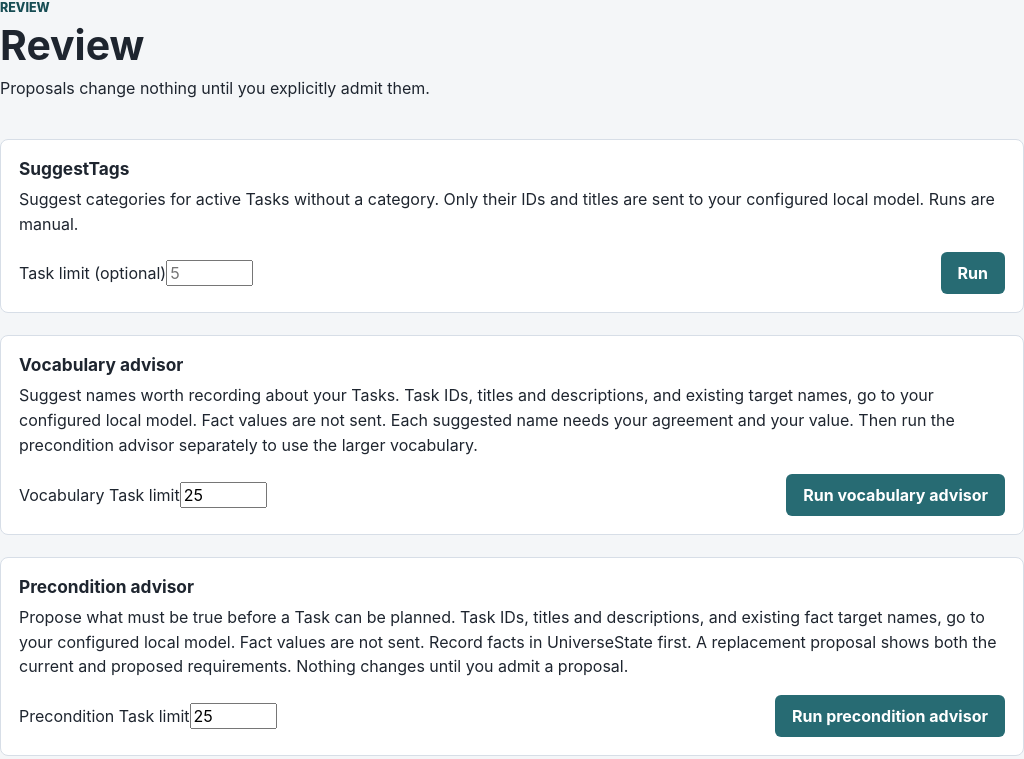
Scenario: a newer selection with no skipped Tasks clears the old snapshot
This screenshot has width=1024, height=759.
Expected: the button "Run precondition advisor" is enabled, left=775, top=695, right=1005, bottom=737
Click the button "Run vocabulary advisor" at (896, 495), box left=786, top=474, right=1005, bottom=516
(page scrolled)
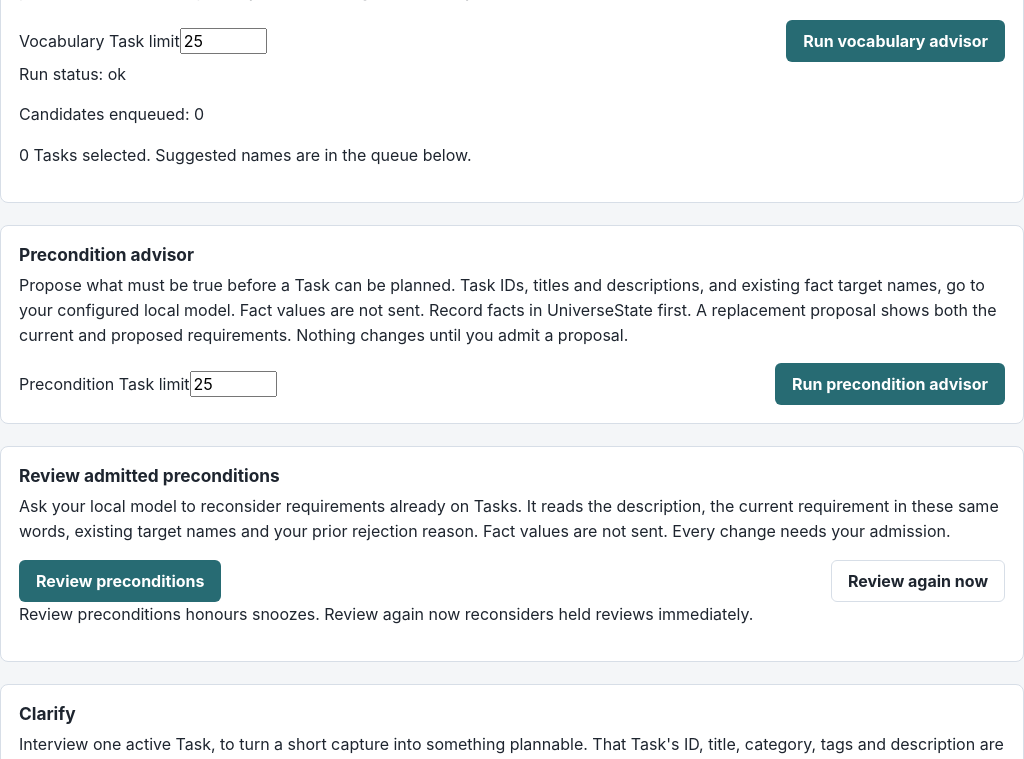
Click the button "Run precondition advisor" at (890, 384), box left=775, top=363, right=1005, bottom=405
(page scrolled)
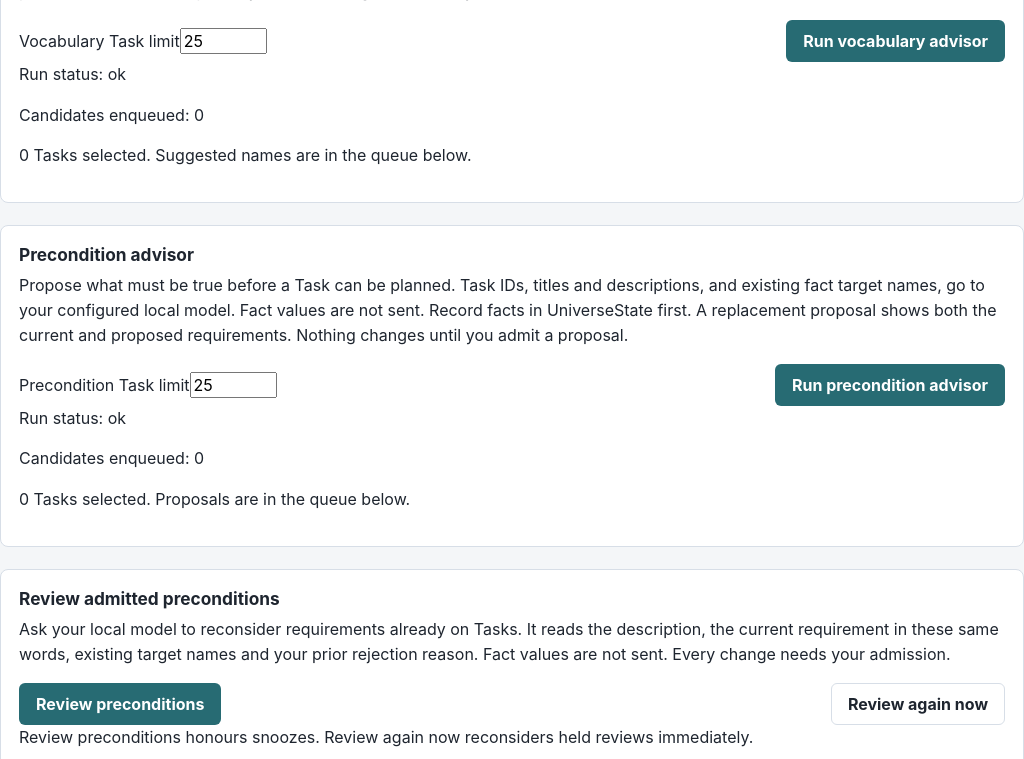
Expected: the element named "Precondition advisor result" is shown, left=19, top=408, right=410, bottom=509
